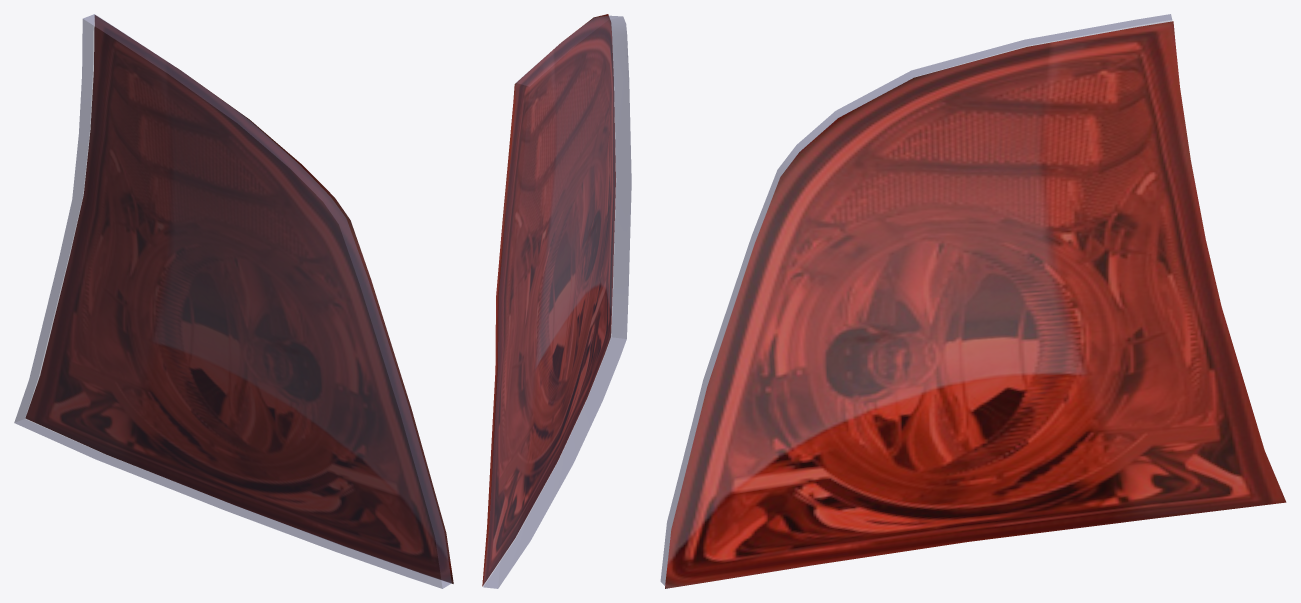
3 renders of one model, left to right at view 1: azimuth 30°, elevation 25°; view 2: azimuth 150°, elevation 25°; view 3: azimuth 270°, elevation 25°, orthographic. The views are drawn at different scales.
Visible parts, largest first — view 1: U266_541C_R_U266_541C_R_2_DTaSI, U266_541C_R_1_N_U266_541C_R; view 2: U266_541C_R_U266_541C_R_2_DTaSI, U266_541C_R_1_N_U266_541C_R; view 3: U266_541C_R_1_N_U266_541C_R, U266_541C_R_U266_541C_R_2_DTaSI.
Boxes of the visible parts, x1=… form: U266_541C_R_U266_541C_R_2_DTaSI: x1=14, y1=14, x2=451, y2=588; U266_541C_R_1_N_U266_541C_R: x1=25, y1=15, x2=453, y2=583; U266_541C_R_U266_541C_R_2_DTaSI: x1=483, y1=15, x2=631, y2=588; U266_541C_R_1_N_U266_541C_R: x1=482, y1=14, x2=615, y2=586; U266_541C_R_1_N_U266_541C_R: x1=665, y1=21, x2=1286, y2=588; U266_541C_R_U266_541C_R_2_DTaSI: x1=660, y1=14, x2=1172, y2=585.
Size of the model in its own units: 9.58 by 24.16 by 27.67.
